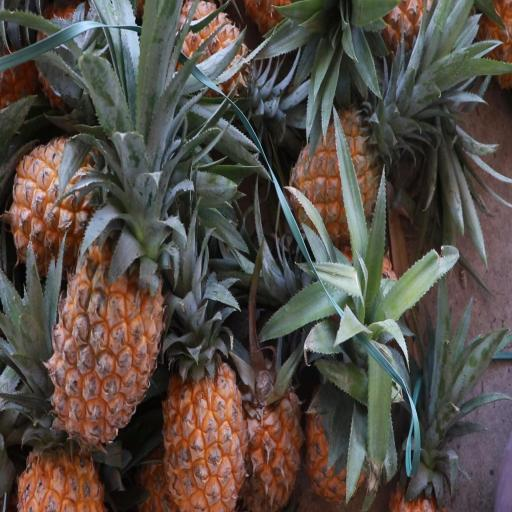Pineapple - v8 v1: (41, 208, 163, 450), (4, 129, 144, 279), (290, 101, 388, 255), (16, 366, 110, 512), (161, 357, 249, 512), (248, 347, 306, 512)
